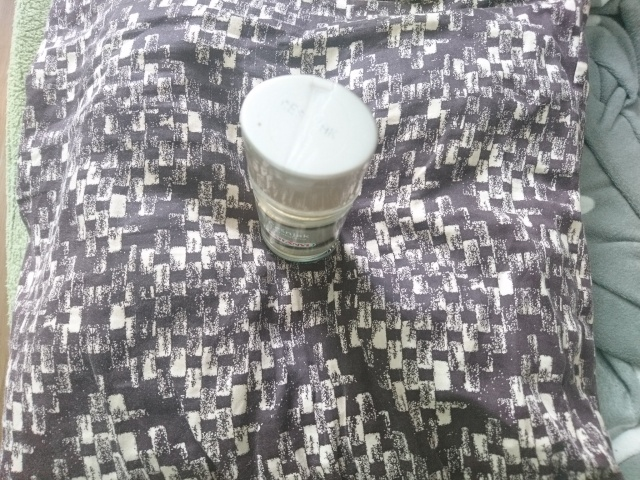Kotanyi Garlic Granules 70g: (236, 72, 381, 267)
